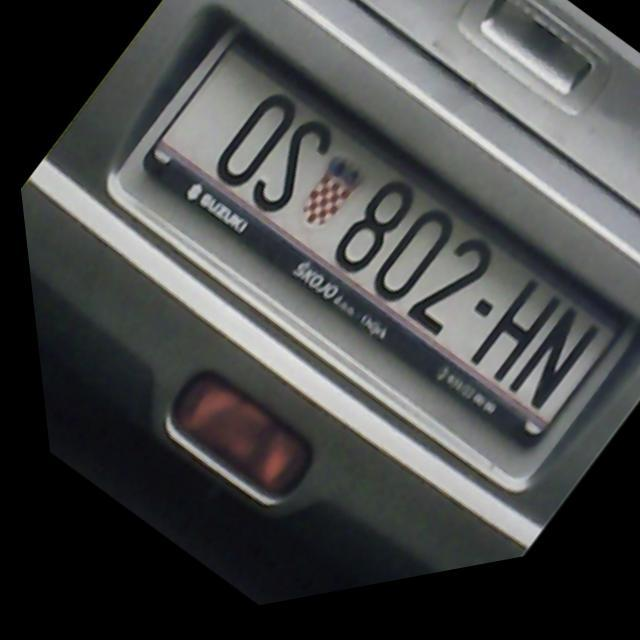license_plate: (137, 0, 630, 497)
